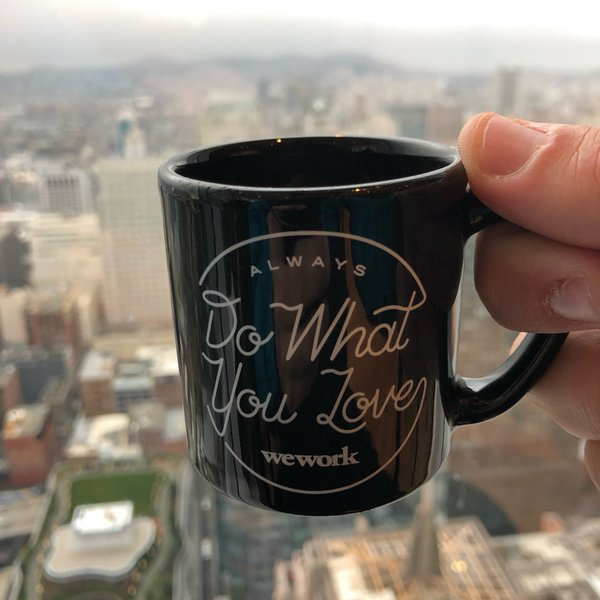wework: (258, 443, 363, 469)
